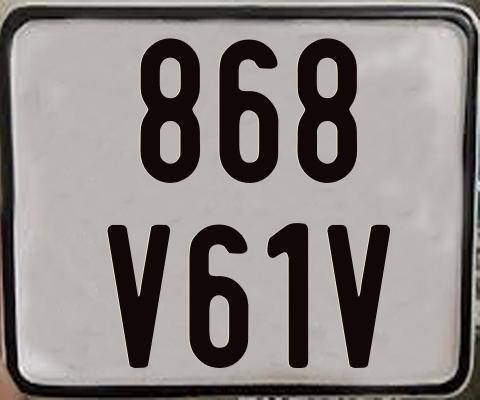1: (266, 220, 308, 371)
6: (186, 224, 251, 369), (216, 37, 279, 183)
8: (297, 37, 362, 183), (139, 38, 203, 185)
V: (104, 223, 172, 369), (326, 224, 389, 368)
